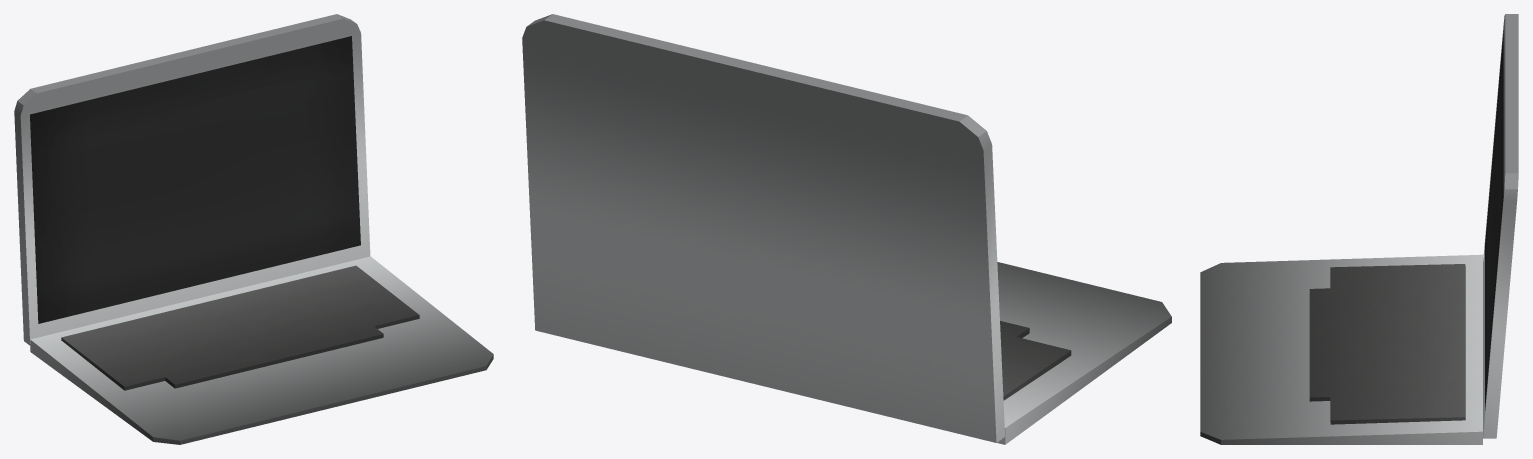
File: Laptop_Off.fbx
The picture shows the model from 3 angles, left to right: view 1: azimuth 30°, elevation 25°; view 2: azimuth 150°, elevation 25°; view 3: azimuth 270°, elevation 25°; orthographic projection. The views are drawn at different scales.
Visible parts, largest first — view 1: Laptop_Off; view 2: Laptop_Off; view 3: Laptop_Off.
Part boxes in pixels (x1=…): Laptop_Off: x1=14, y1=14, x2=493, y2=444; Laptop_Off: x1=522, y1=14, x2=1171, y2=444; Laptop_Off: x1=1200, y1=14, x2=1518, y2=444.
Bounding box in the file's own units: 41.29 × 28.59 × 31.41.
